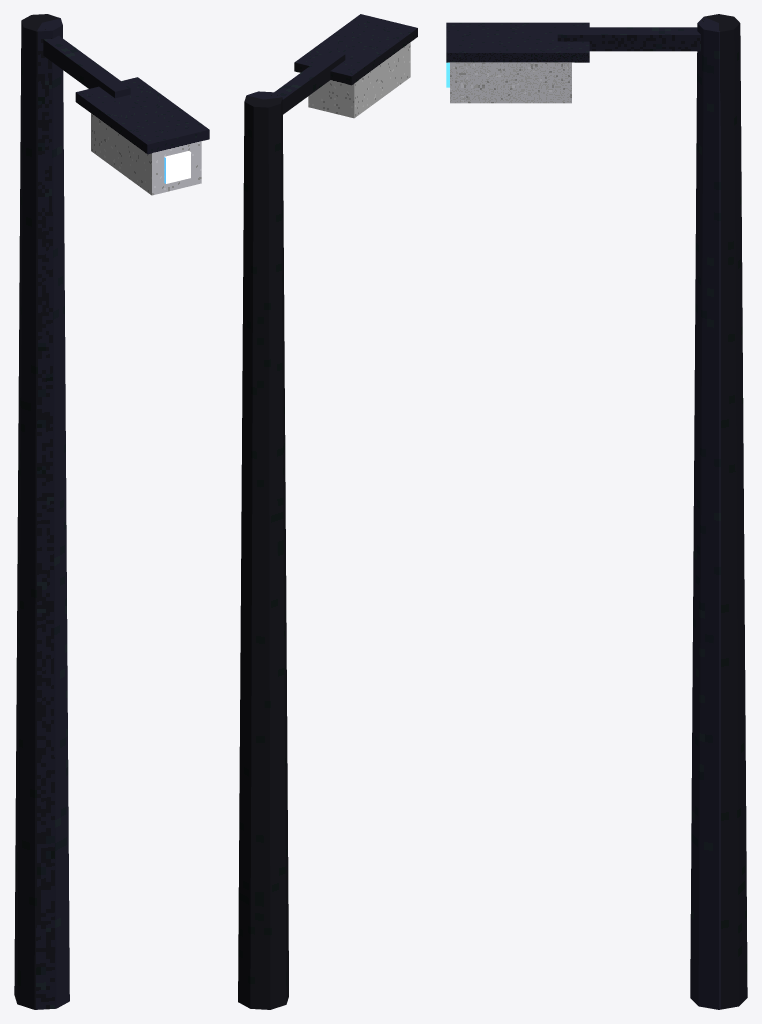
File: surveillance_pole.glb
3 views of the same model, side by side, from view 1: azimuth 30°, elevation 25°; view 2: azimuth 150°, elevation 25°; view 3: azimuth 270°, elevation 25° (orthographic). The views are drawn at different scales.
Parts seen in each view (by area): view 1: prop; view 2: prop; view 3: prop.
Boxes of the visible parts, x1,y1,x2,y2 form: prop: (14,14,209,1009); prop: (238,14,417,1009); prop: (446,14,747,1009).
Size of the model in its own units: 0.2 by 3 by 0.84.
Materials: 1 (1 with a texture image).
